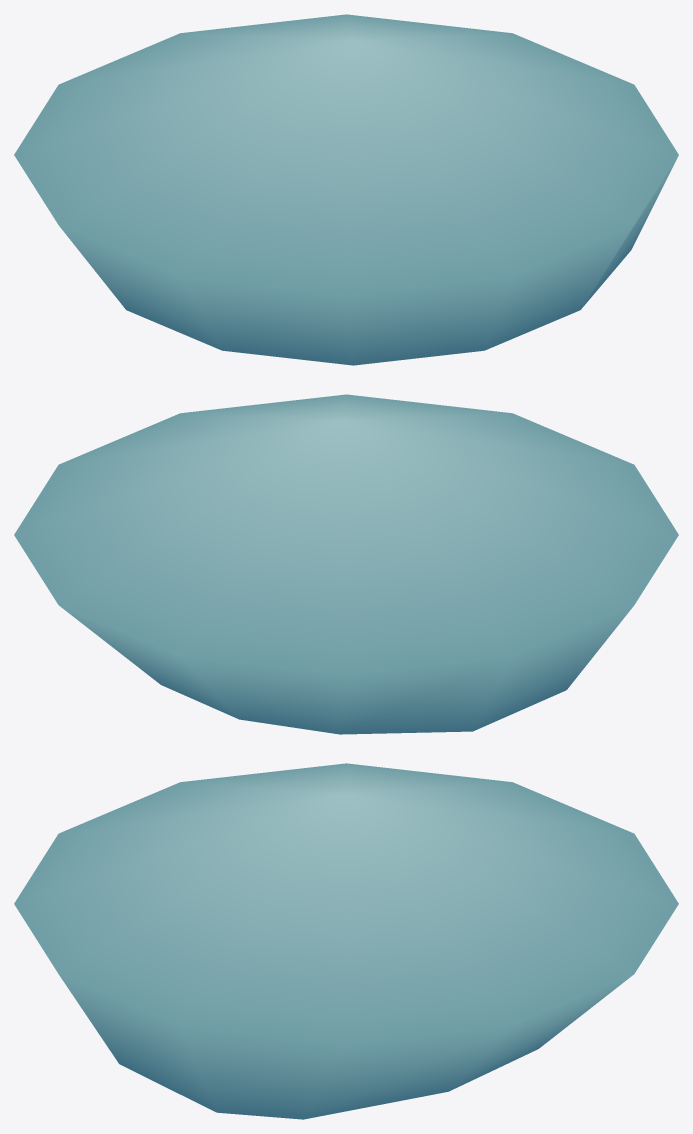
File: testScene_Mdl.fbx
3 renders of one model, top to bottom at view 1: azimuth 30°, elevation 25°; view 2: azimuth 150°, elevation 25°; view 3: azimuth 270°, elevation 25°, orthographic.
Visible parts, largest first — view 1: skyDomeA; view 2: skyDomeA; view 3: skyDomeA.
Part boxes in pixels (x1,y1,x2,y2): skyDomeA: (14, 14, 678, 365); skyDomeA: (14, 394, 678, 734); skyDomeA: (14, 763, 678, 1119).
Size of the model in its own units: 29216 by 10490 by 29216.
